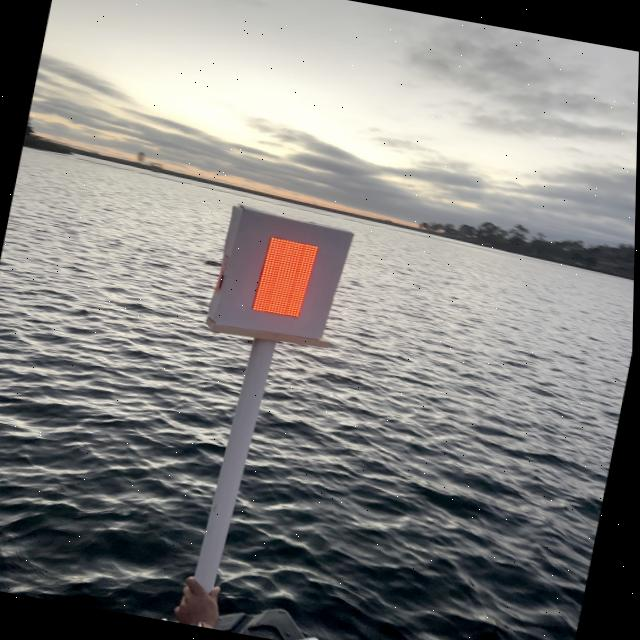led: (223, 216, 340, 346)
